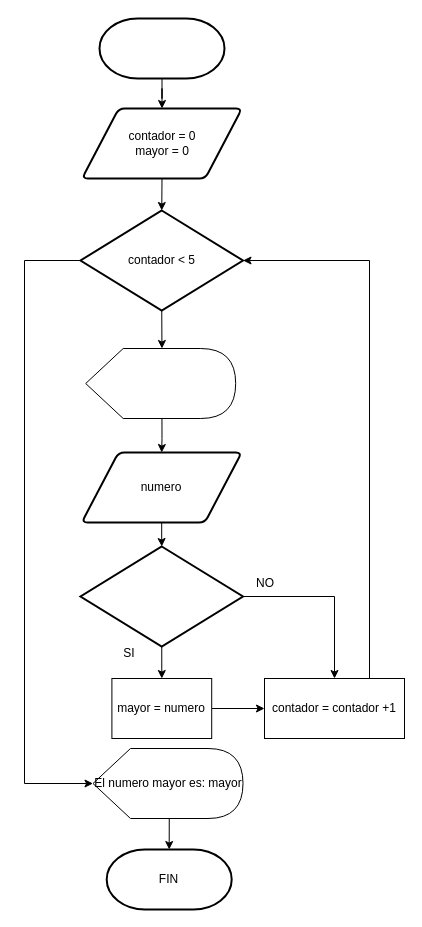
The diagram is 422 pixels wide and 927 high, and some of its shapes have lost their labels. The shapes that lost their labels are listed below. From the top down, each one's centre as x and y in pixels, then its label:
At [161,48]: "INICIO".
At [160,383]: "Ingrese un numero".
At [161,596]: "numero > mayor".
